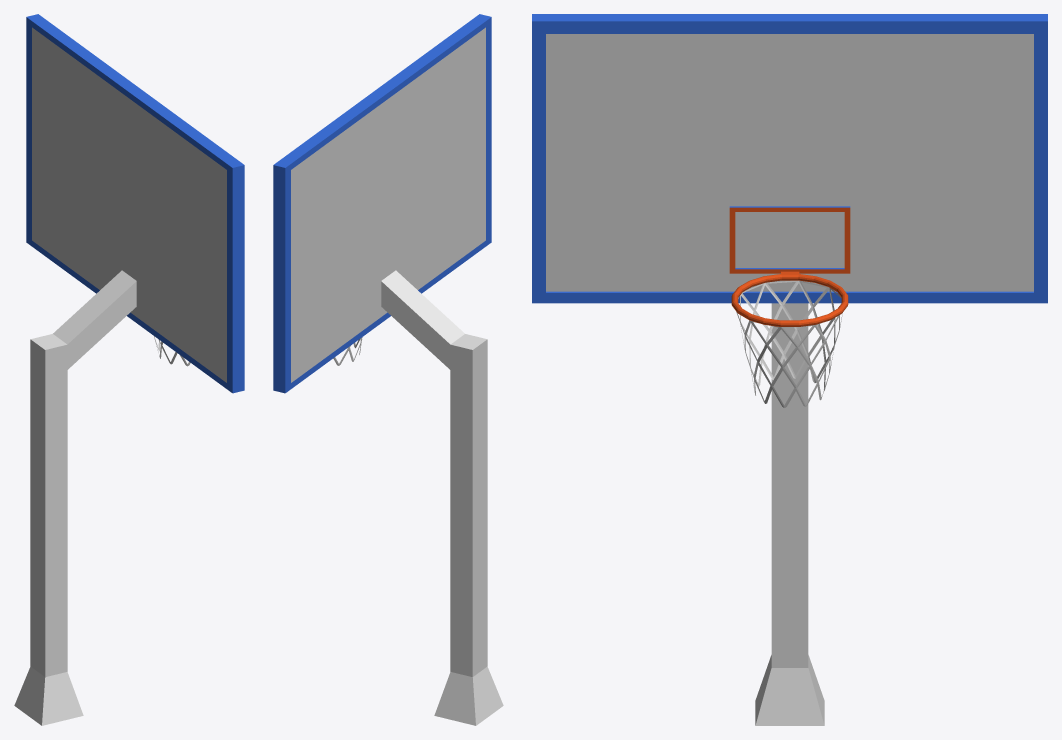
Rendered from ring_tanam_export.fbx.
3 views of the same model, side by side, from view 1: azimuth 30°, elevation 25°; view 2: azimuth 150°, elevation 25°; view 3: azimuth 270°, elevation 25° (orthographic). The views are drawn at different scales.
Parts seen in each view (by area): view 1: Cube; view 2: Cube; view 3: Cube, Jaring, Torus.
Boxes of the visible parts, bbox=[...] form: Cube: bbox=[14, 14, 244, 725]; Cube: bbox=[273, 14, 503, 725]; Cube: bbox=[532, 14, 1047, 725]; Jaring: bbox=[736, 280, 842, 407]; Torus: bbox=[731, 271, 848, 326].
Size of what is drawn, in the model's own units: 269 by 775 by 484.
